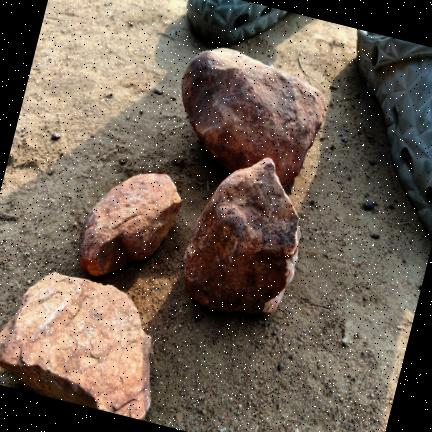Rocks: (0, 273, 151, 419), (182, 49, 325, 186), (184, 158, 300, 314), (80, 174, 181, 275), (364, 200, 374, 210), (155, 87, 163, 95), (51, 133, 60, 140), (342, 338, 348, 347), (371, 234, 379, 239), (120, 159, 126, 165), (278, 364, 283, 371), (342, 137, 347, 143), (220, 428, 226, 431)
